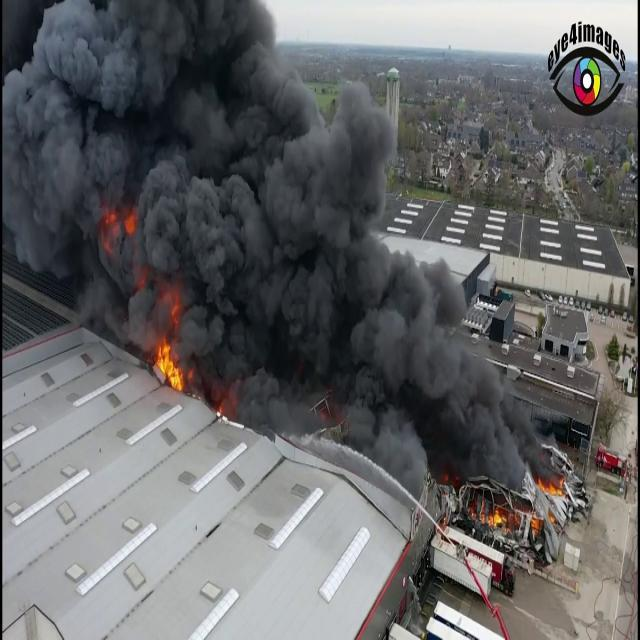Fire: (152, 326, 186, 392), (479, 502, 511, 538)
Smoke: (0, 2, 553, 490)
